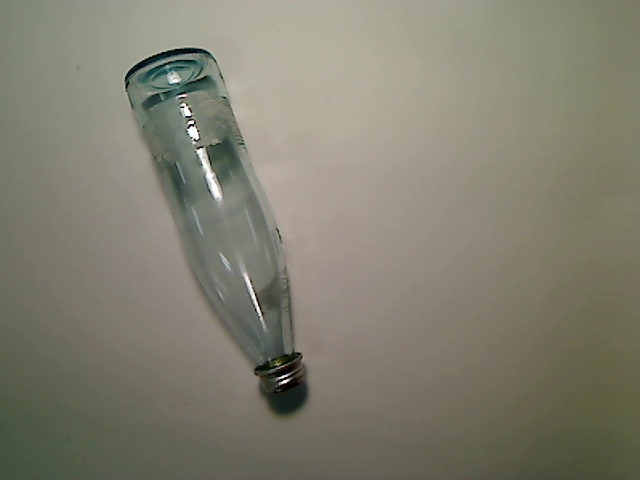bottle: (124, 47, 307, 397)
